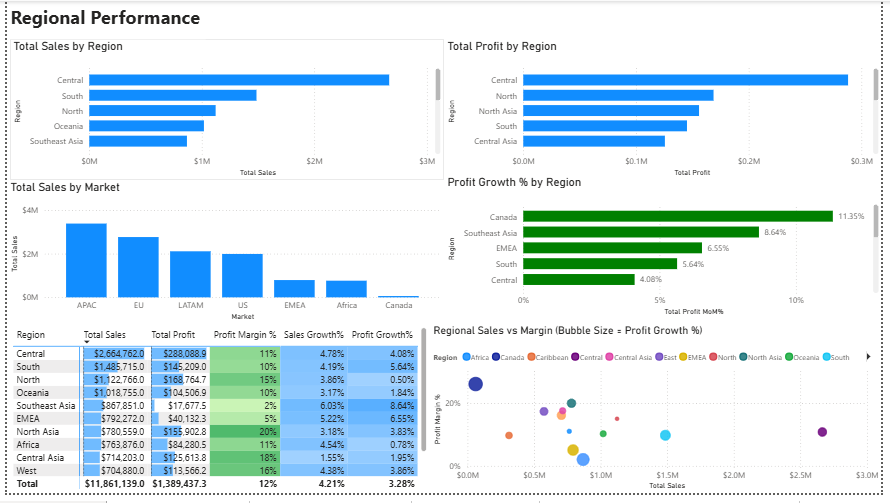

What the dashboard file says about the page in this screenshot:
{"tool":"powerbi","page":{"name":"Regional Performance","canvas":[1280,720],"ordinal":1},"visuals":[{"type":"barChart","fields":{"Category":["Dim_Geography.Region"],"Y":["_Measures.Total Sales"]},"box":[4.4,55.6,635.1,206.3],"z":0},{"type":"clusteredBarChart","fields":{"Category":["Dim_Geography.Region"],"Y":["_Measures.Total Profit"]},"box":[639.5,55.6,641,206.3],"z":1000},{"type":"clusteredBarChart","title":"Profit Growth % by Region","fields":{"Category":["Dim_Geography.Region"],"Y":["_Measures.Total Profit MoM%"]},"box":[639.5,254.6,641,210.7],"z":2000},{"type":"columnChart","fields":{"Category":["Dim_Geography.Market"],"Y":["_Measures.Total Sales"]},"box":[0,262,639.5,210.7],"z":3000},{"type":"textbox","box":[0,0,289.8,55.6],"z":4000},{"type":"pivotTable","fields":{"Rows":["Dim_Geography.Region"],"Values":["_Measures.Total Sales","_Measures.Total Profit","_Measures.Profit Margin %","_Measures.Total Sales MoM%","_Measures.Total Profit MoM%"]},"box":[4.4,472.7,614.6,247.3],"z":5000},{"type":"scatterChart","title":"Regional Sales vs Margin (Bubble Size = Profit Growth %)","fields":{"X":["_Measures.Total Sales"],"Y":["_Measures.Profit Margin %"],"Series":["Dim_Geography.Region"],"Size":["_Measures.Total Profit MoM%"]},"box":[619,472.7,661.5,247.3],"z":6000}]}

Visuals, with their boxes in screenshot pixels (x1, y1, x2, y2), scaled from the page's 1280x720 canvas onto the 890x503 screenshot:
barChart - Dim_Geography.Region x _Measures.Total Sales: select_region(3, 39, 445, 183)
clusteredBarChart - Dim_Geography.Region x _Measures.Total Profit: select_region(445, 39, 889, 183)
"Profit Growth % by Region" clusteredBarChart: select_region(445, 178, 889, 325)
columnChart - Dim_Geography.Market x _Measures.Total Sales: select_region(0, 183, 445, 330)
textbox: select_region(0, 0, 202, 39)
pivotTable - Dim_Geography.Region x _Measures.Total Sales: select_region(3, 330, 430, 502)
"Regional Sales vs Margin (Bubble Size = Profit Growth %)" scatterChart: select_region(430, 330, 889, 502)
